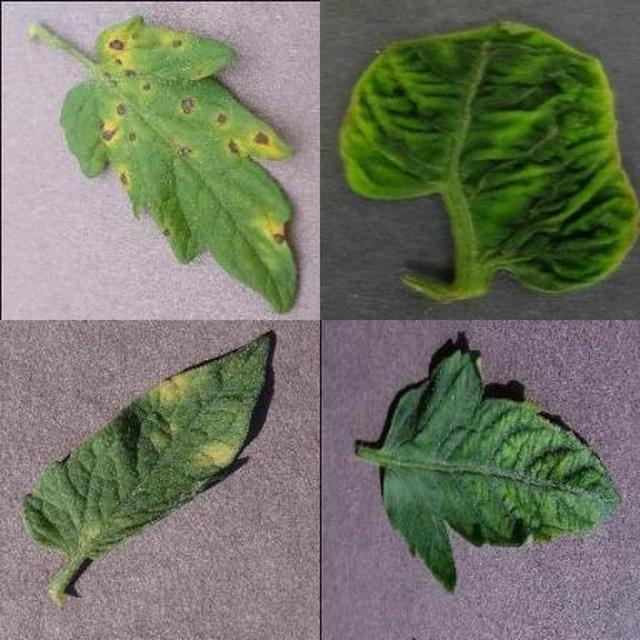Septoria Leaf: (209, 224, 640, 640)
